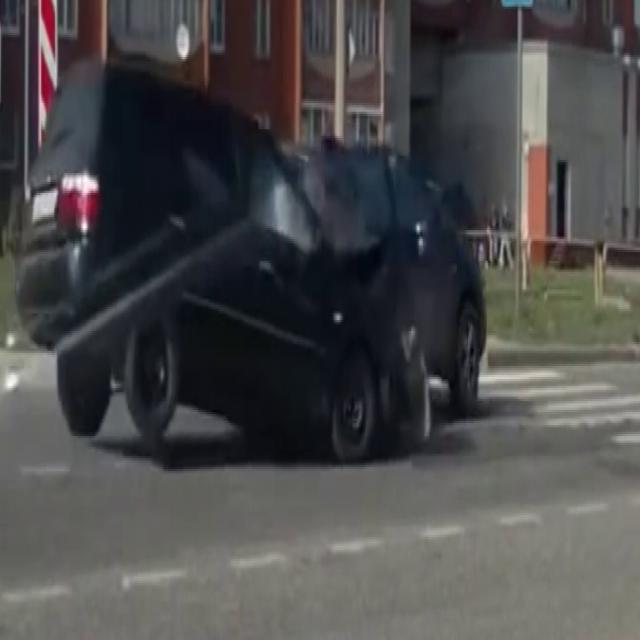accident: (195, 58, 492, 453)
